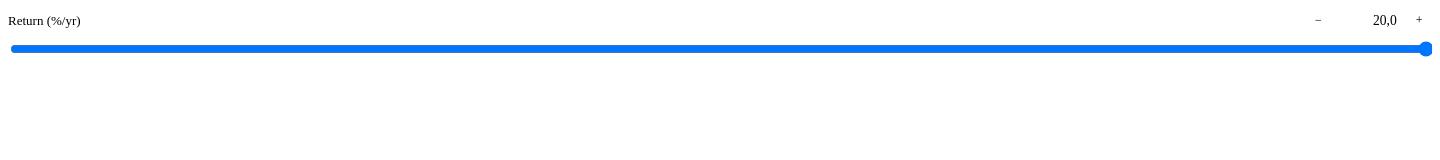
Test case: typing a number with a letter in it, or too many digits, into a field › shows the value a percentage was held to
Replace the text in the field named "Return (%/yr)" with "50": point(1369, 21) [1335, 9, 1402, 33]
Then press Enter
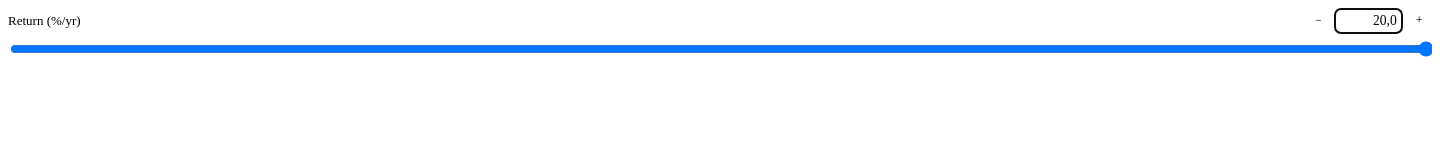
Now the field named "Return (%/yr)" holds "20,0", box [1335, 9, 1402, 33]
